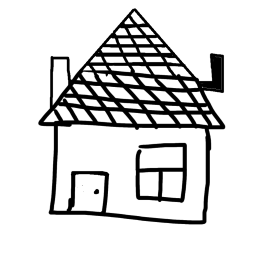chimney: (189, 46, 236, 98), (40, 45, 76, 98)
closed_window: (123, 135, 194, 205)
door: (60, 167, 120, 220)
roof: (22, 4, 234, 127)
wall: (46, 118, 218, 238)
